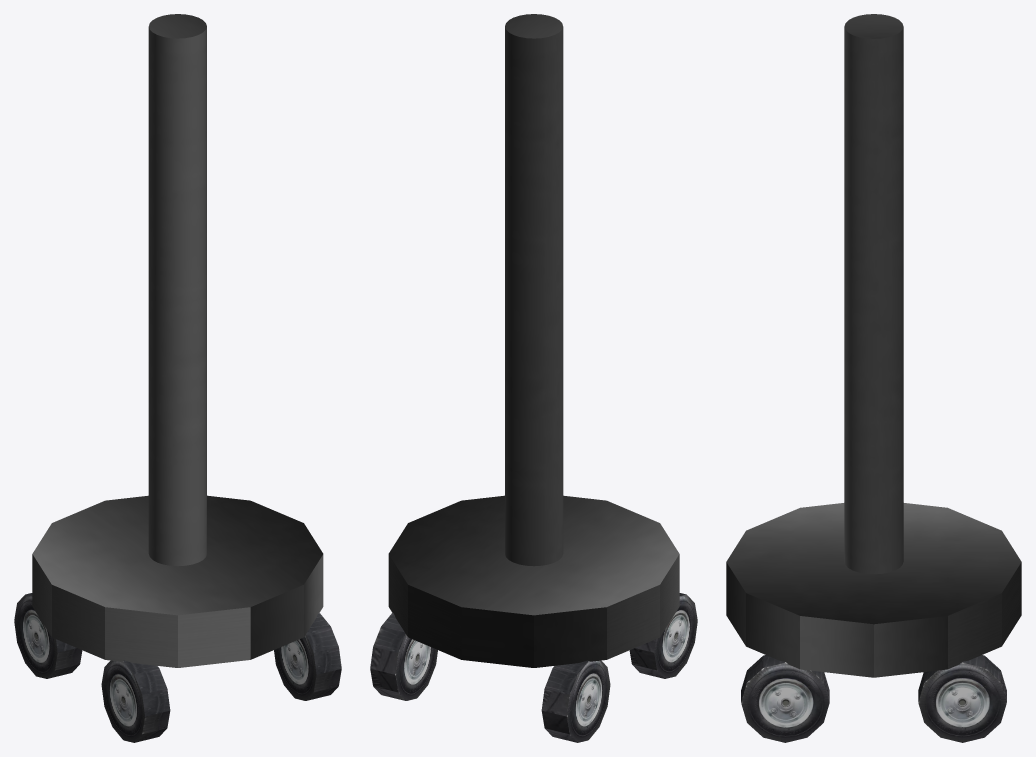
The model's file is ExpositorPostal.obj.
3 renders of one model, left to right at view 1: azimuth 30°, elevation 25°; view 2: azimuth 150°, elevation 25°; view 3: azimuth 270°, elevation 25°, orthographic.
Parts seen in each view (by area): view 1: Base, Ruedas; view 2: Base, Ruedas; view 3: Base, Ruedas.
Boxes of the visible parts, x1,y1,x2,y2 form: Base: (32, 14, 323, 667); Ruedas: (14, 593, 341, 742); Base: (388, 14, 679, 667); Ruedas: (370, 593, 697, 742); Base: (726, 14, 1021, 677); Ruedas: (741, 655, 1006, 742).
Size of the model in its own units: 0.45 by 1.12 by 0.45.
Materials: 2 (2 with a texture image).
